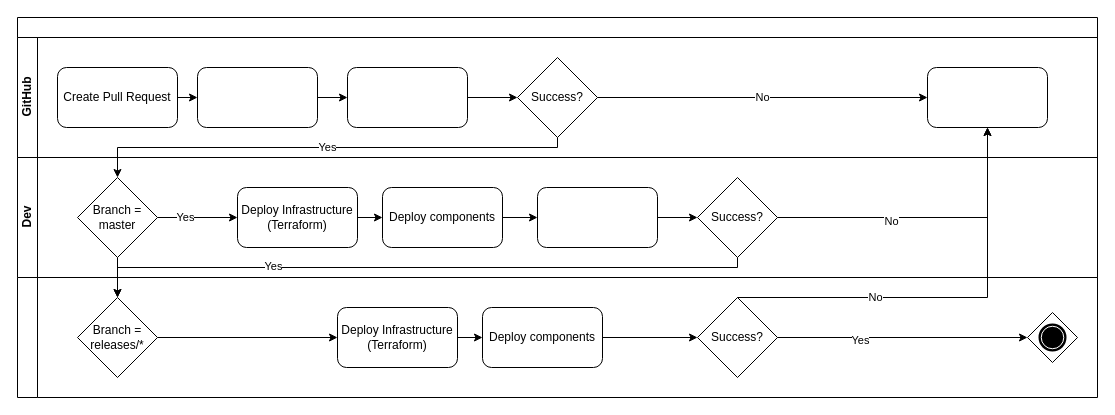
The diagram is 1115 pixels wide and 415 high, and some of its shapes have lost their labels. The box of each missing label's shape, as (x1, y1, x2, y2) in pixels:
Deployment process: (16, 16, 1098, 158)
Execute functional Tests: (536, 186, 658, 248)
PR Build: (196, 66, 318, 128)
Production: (16, 276, 1098, 398)
Report Results: (926, 66, 1048, 128)
Run Unit Tests: (346, 66, 468, 128)
